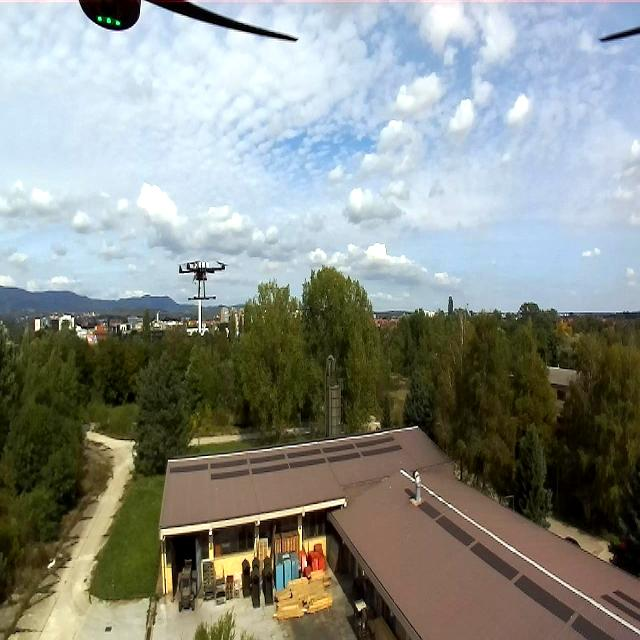drone: (178, 252, 228, 303)
